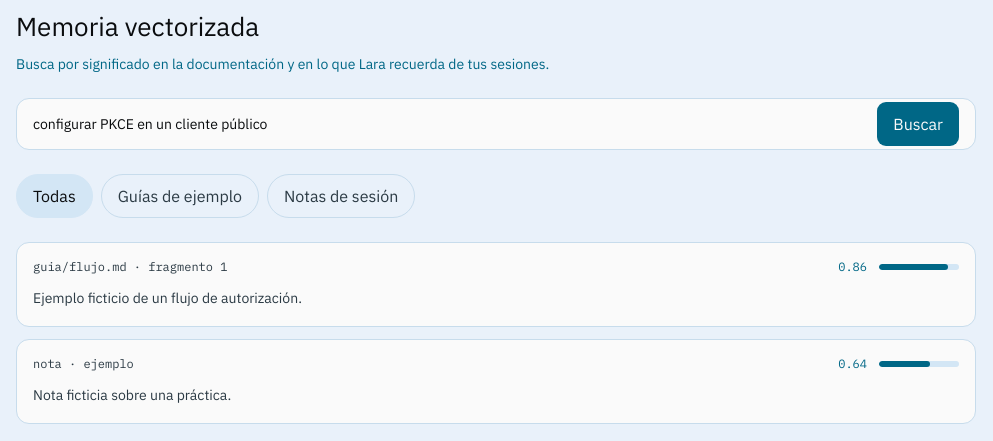
Test: MemoriaPage › presenta el estado vacío cuando no hay coincidencias
The width and height of the screenshot is (993, 441).
expect the text "guia/flujo.md · fragmento 1" is shown: met, box x1=33 y1=259 x2=227 y2=274
Replace the text in the search field named "Buscar en memoria" with "sin coincidencias" at (449, 124), box x1=33 y1=102 x2=865 y2=146
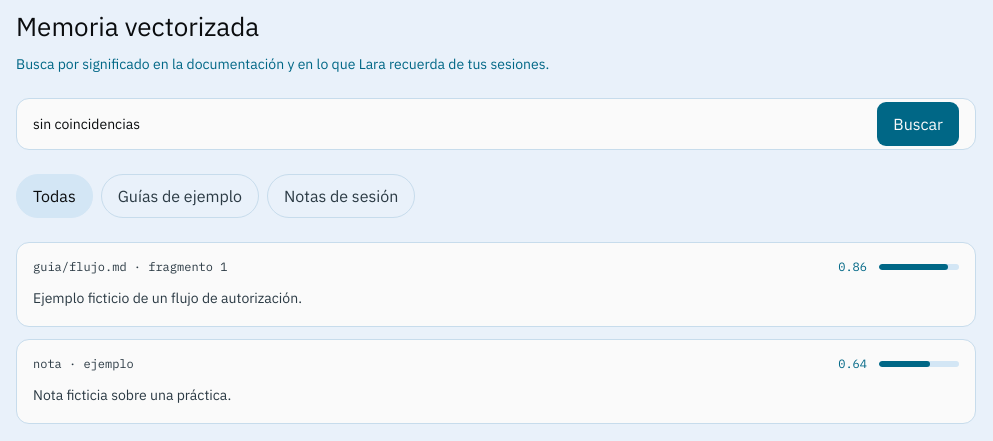
Click the button "Buscar".
click(918, 124)  # box x1=877 y1=102 x2=959 y2=146
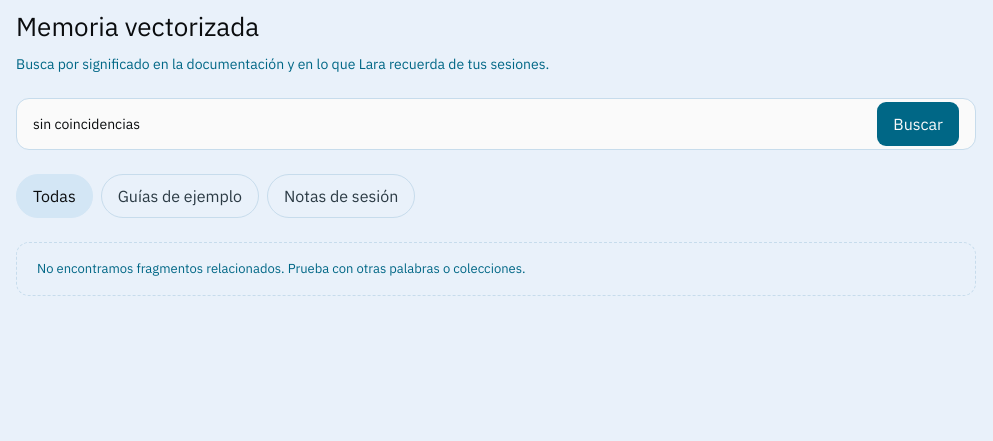
expect the text "No encontramos fragmentos relacionados. Prueba con otras palabras o colecciones." is shown: met, box x1=16 y1=242 x2=976 y2=296
